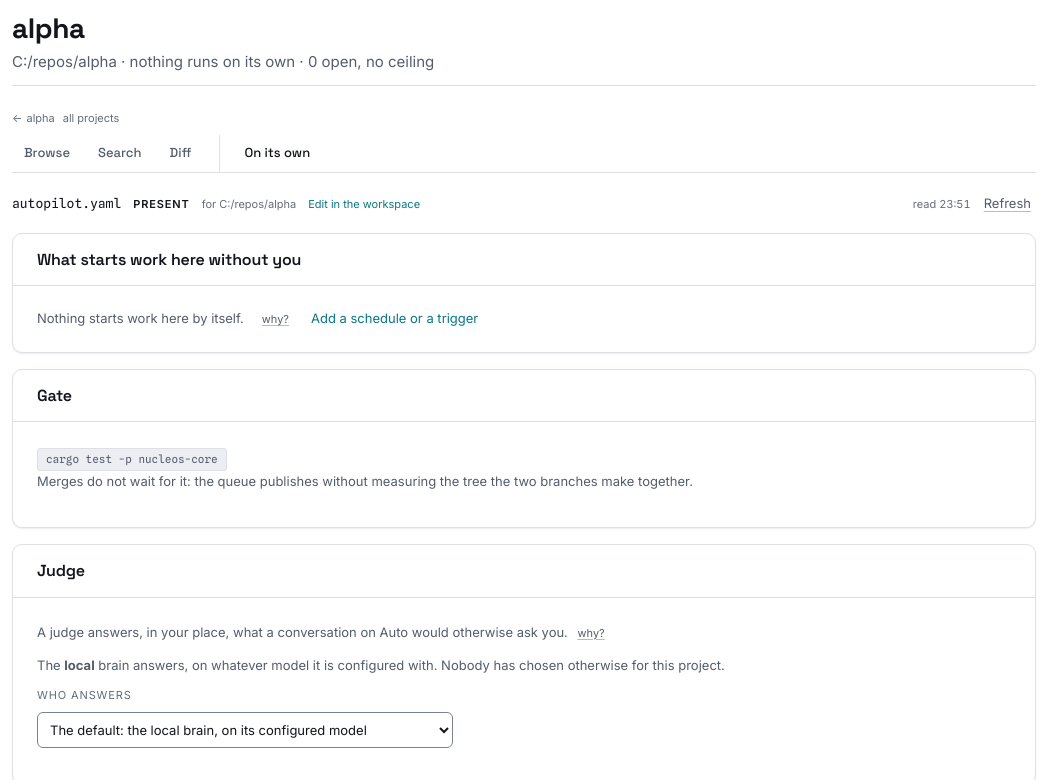
Test: Projects - a change says what it replaced › says when the rules were read, and says so again when a re-read fails
Expected: the text "23:51" is shown, [939,197,971,211]
Click the button "Refresh". click: point(1007, 203)
box: [979,189,1036,217]
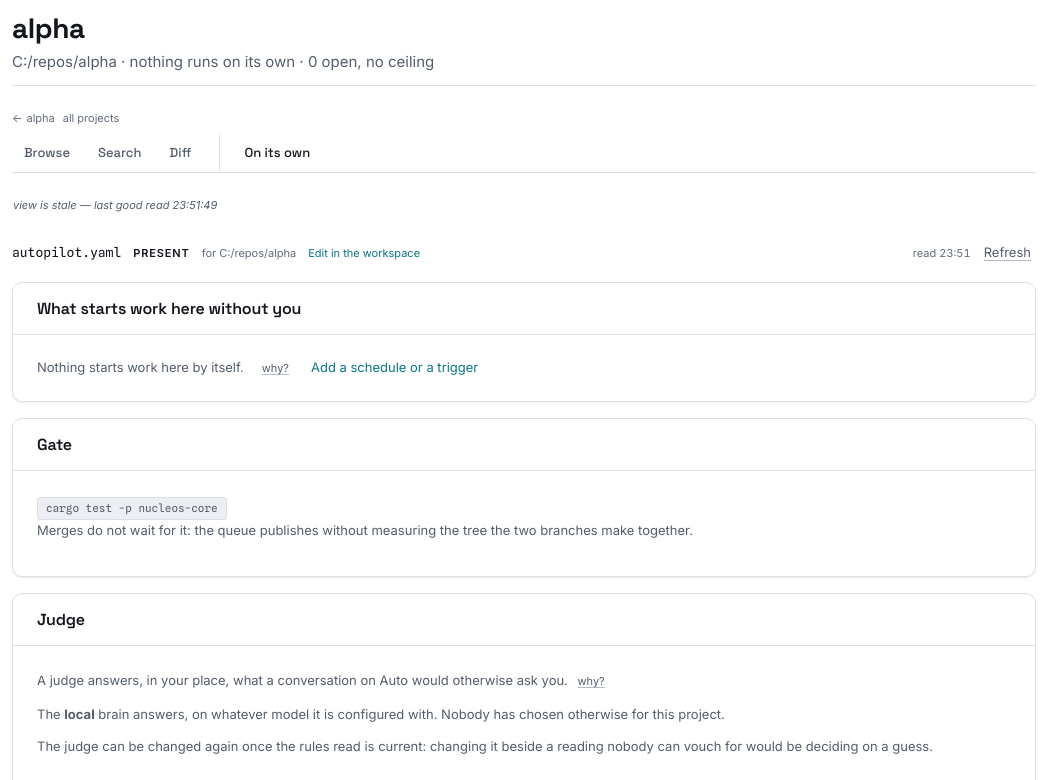
Expected: the text "Nobody has chosen otherwise" is shown, [95,706,725,722]
Expected: the text "view is stale — last good read 23:51:49" is shown, [13,198,217,212]
Expected: the label labelled "Who answers" is gone
